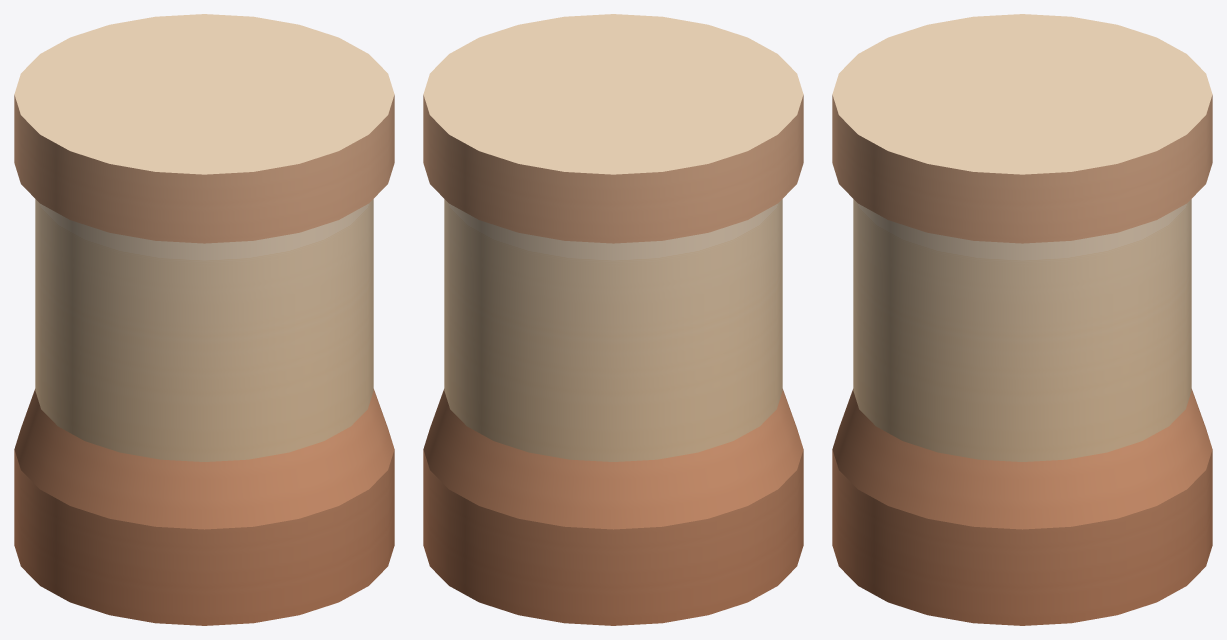
Rendered from tower-base.obj.
3 views of the same model, side by side, from view 1: azimuth 30°, elevation 25°; view 2: azimuth 150°, elevation 25°; view 3: azimuth 270°, elevation 25° (orthographic).
Visible parts, largest first — view 1: tower-base; view 2: tower-base; view 3: tower-base.
Boxes of the visible parts, x1,y1,x2,y2 form: tower-base: (14,14,394,625); tower-base: (423,14,803,625); tower-base: (832,14,1212,625).
Bounding box in the file's own units: 1 × 1.31 × 1.
1 material, 1 textured.
